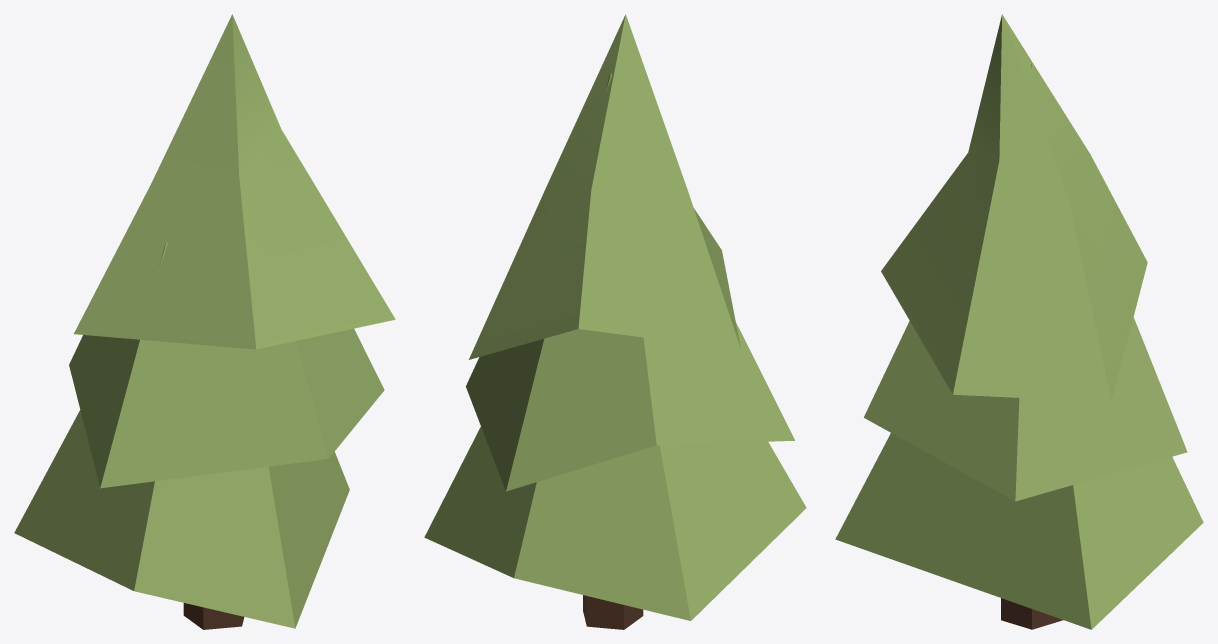
Rendered from tree_01.fbx.
3 views of the same model, side by side, from view 1: azimuth 30°, elevation 25°; view 2: azimuth 150°, elevation 25°; view 3: azimuth 270°, elevation 25° (orthographic). The views are drawn at different scales.
Visible parts, largest first — view 1: tree_01; view 2: tree_01; view 3: tree_01.
Part boxes in pixels (box(x1,y1,x2,y2)): tree_01: box(14, 14, 395, 629); tree_01: box(424, 14, 806, 629); tree_01: box(835, 14, 1203, 629).
Bounding box in the file's own units: 1.8 × 3.32 × 1.84.
